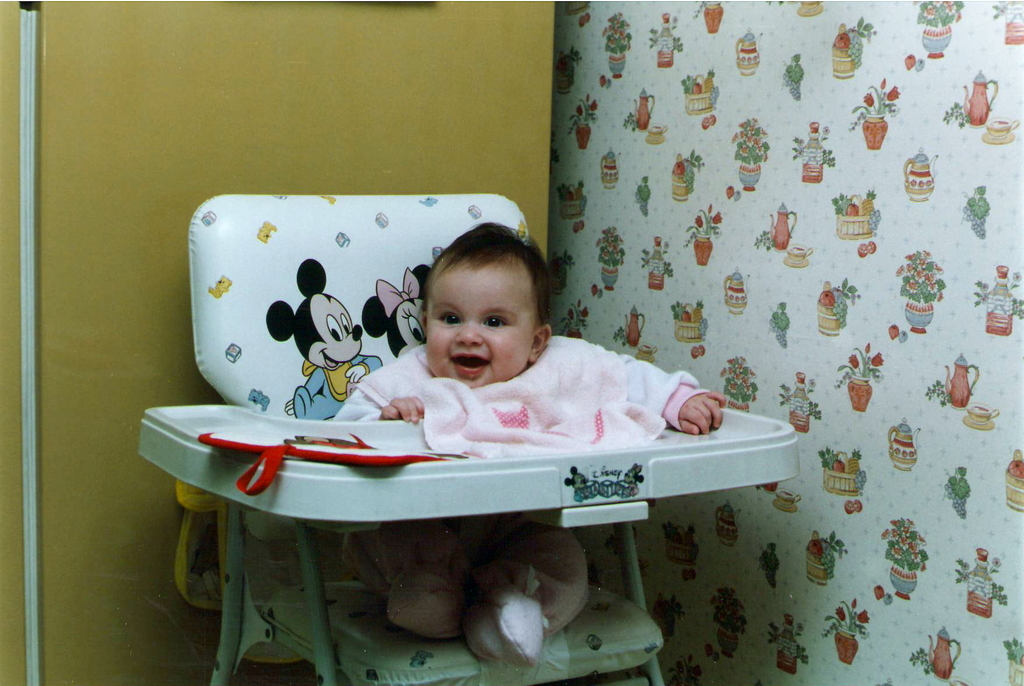Person: (333, 221, 726, 667)
